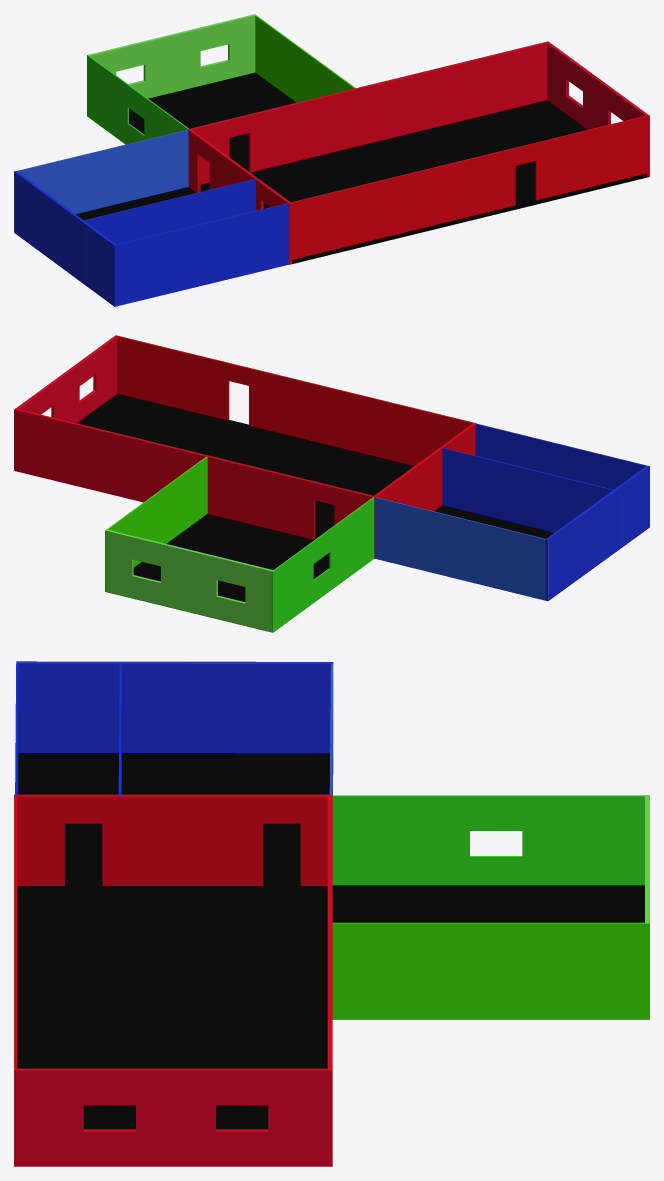
Rendered from Parter_JEDEN_z_drzwiami_i_oknami.fbx.
The picture shows the model from 3 angles, top to bottom: view 1: azimuth 30°, elevation 25°; view 2: azimuth 150°, elevation 25°; view 3: azimuth 270°, elevation 25°; orthographic projection. The views are drawn at different scales.
Visible parts, largest first — view 1: Ściana jedna para drzwi.001, Ściana jedna para drzwi, Podłoga Duża, Ściana magazynu.001, Ściana toalety, Ściana jedno/dwa okna, Ściana toalety i magazynu, Podłoga pokój syna, Ściana magazynu, Ściana jedno okno, Sciana dwa okna, Ściana bez okien (+2 smaller); view 2: Ściana jedna para drzwi.001, Ściana jedna para drzwi, Podłoga Duża, Ściana toalety, Ściana jedno/dwa okna, Ściana magazynu, Ściana toalety i magazynu, Ściana jedno okno, Podłoga pokój syna, Ściana magazynu.001, Ściana bez okien, Sciana dwa okna (+2 smaller); view 3: Podłoga Duża, Ściana bez okien, Sciana dwa okna, Ściana toalety i magazynu, Ściana jedno okno, Ściana dwie pary drzwi, Podłoga na dwa, Podłoga pokój syna, Ściana jedna para drzwi, Ściana jedna para drzwi.001.
Part boxes in pixels (left/top/right/bottom): Ściana jedna para drzwi.001: left=288, top=115, right=649, bottom=259; Ściana jedna para drzwi: left=188, top=41, right=549, bottom=184; Podłoga Duża: left=200, top=100, right=647, bottom=264; Ściana magazynu.001: left=113, top=203, right=288, bottom=306; Ściana toalety: left=14, top=129, right=188, bottom=232; Ściana jedno/dwa okna: left=87, top=14, right=256, bottom=98; Ściana toalety i magazynu: left=14, top=171, right=116, bottom=305; Podłoga pokój syna: left=91, top=72, right=295, bottom=171; Ściana magazynu: left=80, top=178, right=257, bottom=282; Ściana jedno okno: left=87, top=55, right=188, bottom=144; Sciana dwa okna: left=547, top=42, right=649, bottom=177; Ściana bez okien: left=255, top=15, right=355, bottom=102; Ściana jedna para drzwi.001: left=115, top=335, right=476, bottom=465; Ściana jedna para drzwi: left=14, top=408, right=375, bottom=539; Podłoga Duża: left=17, top=393, right=413, bottom=539; Ściana toalety: left=375, top=497, right=548, bottom=600; Ściana jedno/dwa okna: left=105, top=529, right=274, bottom=632; Ściana magazynu: left=440, top=447, right=616, bottom=551; Ściana toalety i magazynu: left=545, top=465, right=649, bottom=600; Ściana jedno okno: left=271, top=497, right=374, bottom=632; Podłoga pokój syna: left=106, top=513, right=369, bottom=632; Ściana magazynu.001: left=475, top=423, right=649, bottom=527; Ściana bez okien: left=105, top=456, right=207, bottom=591; Sciana dwa okna: left=14, top=336, right=117, bottom=471; Podłoga Duża: left=14, top=885, right=332, bottom=1166; Ściana bez okien: left=332, top=922, right=649, bottom=1019; Sciana dwa okna: left=14, top=1068, right=332, bottom=1166; Ściana toalety i magazynu: left=16, top=661, right=333, bottom=753; Ściana jedno okno: left=332, top=795, right=644, bottom=885; Ściana dwie pary drzwi: left=17, top=794, right=327, bottom=885; Podłoga na dwa: left=18, top=753, right=329, bottom=885; Podłoga pokój syna: left=332, top=885, right=649, bottom=1019; Ściana jedna para drzwi: left=327, top=794, right=332, bottom=1070; Ściana jedna para drzwi.001: left=14, top=794, right=17, bottom=1070.
Size of the model in its own units: 7051 by 772 by 4633.
